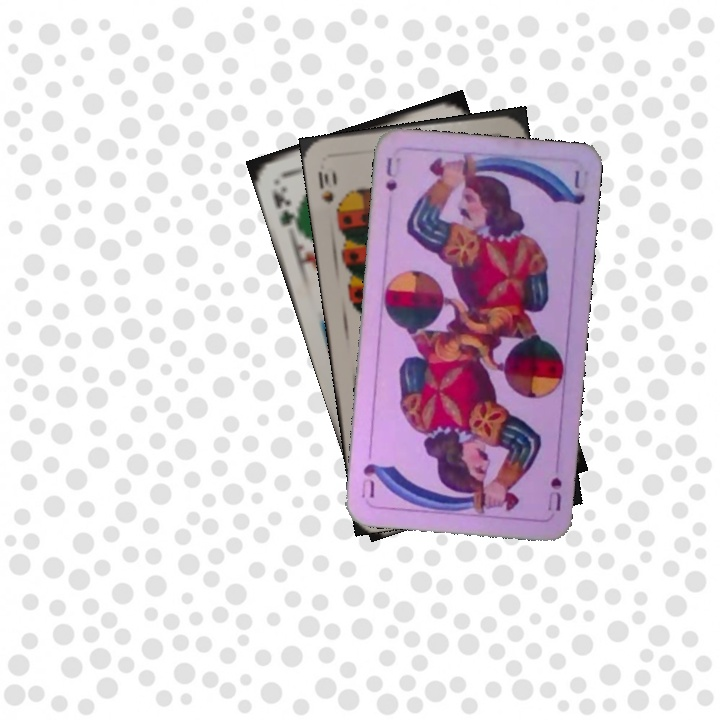GK: (268, 181, 303, 233)
S10: (314, 165, 340, 207)
SU: (382, 153, 405, 194), (543, 473, 565, 514)
